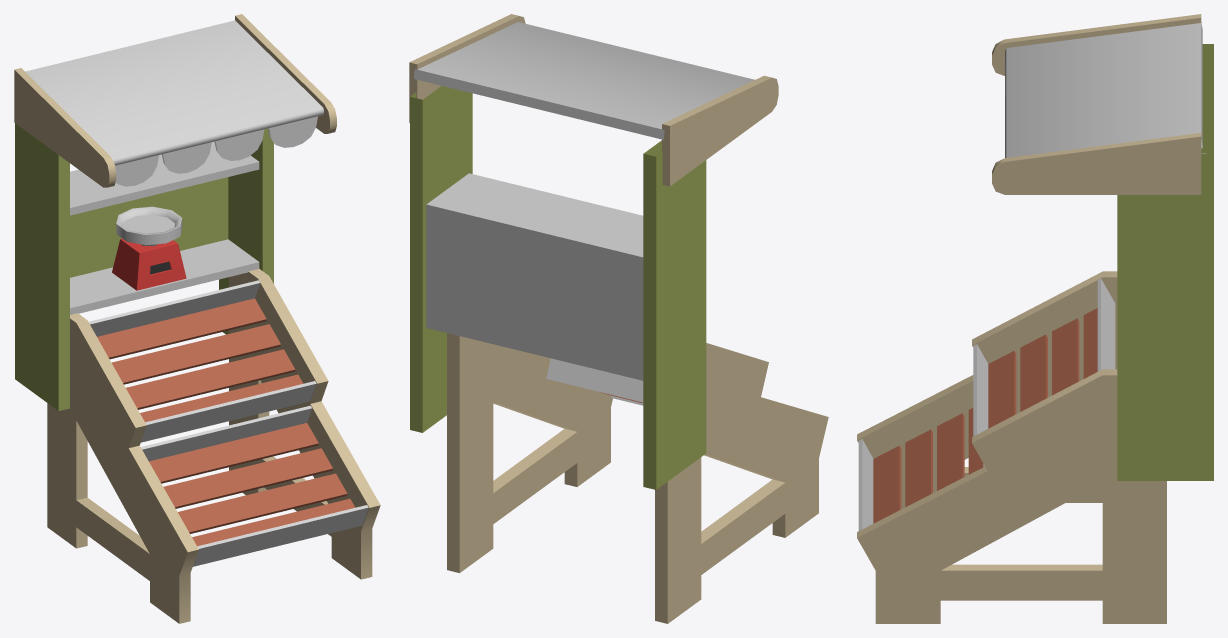
File: Stand_02.fbx
3 views of the same model, side by side, from view 1: azimuth 30°, elevation 25°; view 2: azimuth 150°, elevation 25°; view 3: azimuth 270°, elevation 25° (orthographic). The views are drawn at different scales.
Visible parts, largest first — view 1: Stand_02, Stand_02_Scale, Stand_02_Scale_Top; view 2: Stand_02; view 3: Stand_02.
Part boxes in pixels (bbox=[...]): Stand_02: bbox=[14, 14, 380, 623]; Stand_02_Scale: bbox=[112, 238, 186, 290]; Stand_02_Scale_Top: bbox=[116, 206, 182, 245]; Stand_02: bbox=[409, 14, 828, 623]; Stand_02: bbox=[857, 14, 1213, 623].
Size of the model in its own units: 0.7892 by 1.49 by 0.9715.
